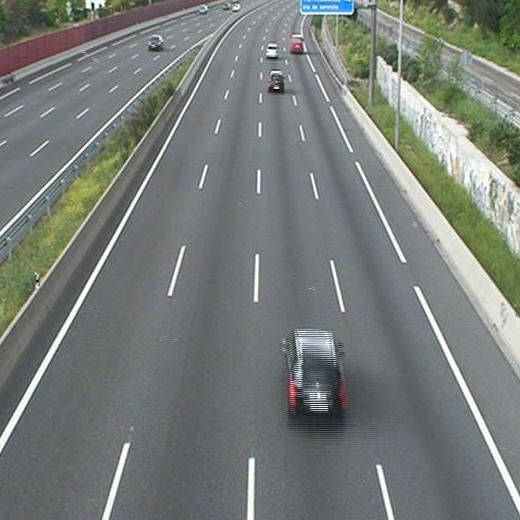car: (286, 331, 345, 407), (267, 71, 284, 90), (265, 44, 278, 58)
van: (291, 36, 303, 52)
